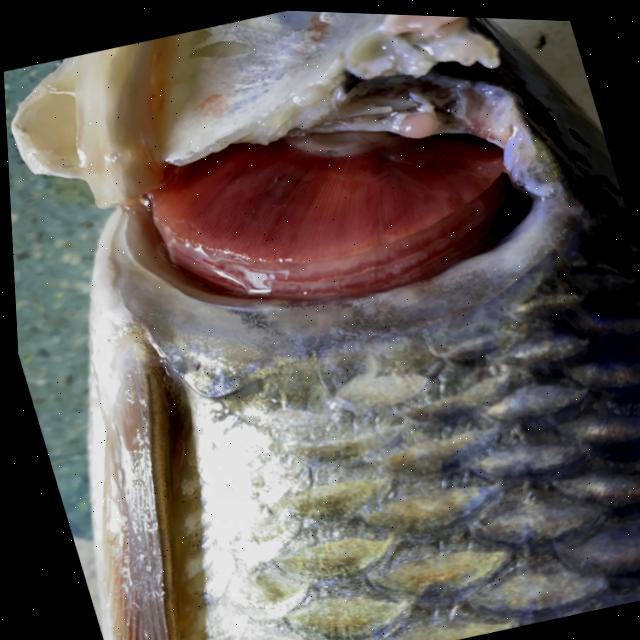Fresh: (62, 32, 602, 385)
